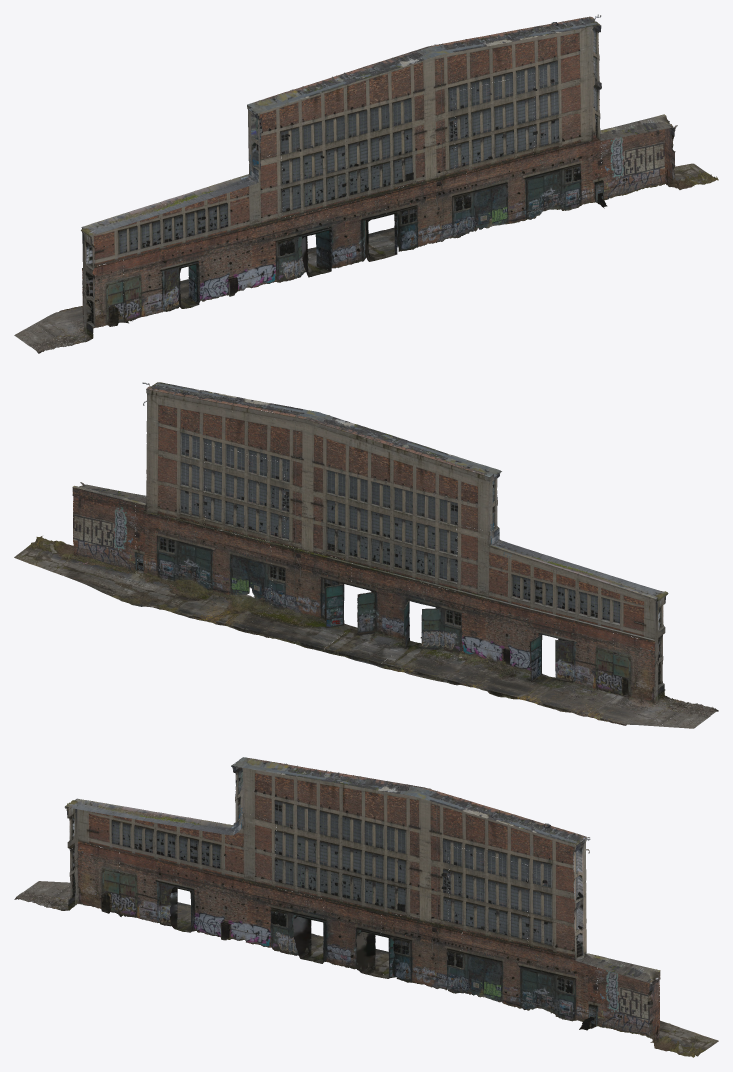
File: sf-high-facade-of-the-factory-with-exit-gat-47913b.glb
3 renders of one model, top to bottom at view 1: azimuth 30°, elevation 25°; view 2: azimuth 150°, elevation 25°; view 3: azimuth 330°, elevation 25°, orthographic.
Parts seen in each view (by area): view 1: FBX_1_mln_2x16K_N_FBX_1_mln_2x16K_N_u1_v1_0, FBX_1_mln_2x16K_N_FBX_1_mln_2x16K_N_u2_v1_0; view 2: FBX_1_mln_2x16K_N_FBX_1_mln_2x16K_N_u1_v1_0, FBX_1_mln_2x16K_N_FBX_1_mln_2x16K_N_u2_v1_0; view 3: FBX_1_mln_2x16K_N_FBX_1_mln_2x16K_N_u1_v1_0, FBX_1_mln_2x16K_N_FBX_1_mln_2x16K_N_u2_v1_0.
Boxes of the visible parts, box(x1,y1,x2,y2) form: FBX_1_mln_2x16K_N_FBX_1_mln_2x16K_N_u1_v1_0: box(35, 14, 611, 346); FBX_1_mln_2x16K_N_FBX_1_mln_2x16K_N_u2_v1_0: box(14, 37, 718, 353); FBX_1_mln_2x16K_N_FBX_1_mln_2x16K_N_u1_v1_0: box(110, 382, 691, 726); FBX_1_mln_2x16K_N_FBX_1_mln_2x16K_N_u2_v1_0: box(14, 403, 718, 728); FBX_1_mln_2x16K_N_FBX_1_mln_2x16K_N_u1_v1_0: box(42, 757, 597, 1030); FBX_1_mln_2x16K_N_FBX_1_mln_2x16K_N_u2_v1_0: box(14, 796, 718, 1057).
Size of the model in its own units: 83.88 by 24.14 by 8.44.
Materials: 2 (2 with a texture image).
